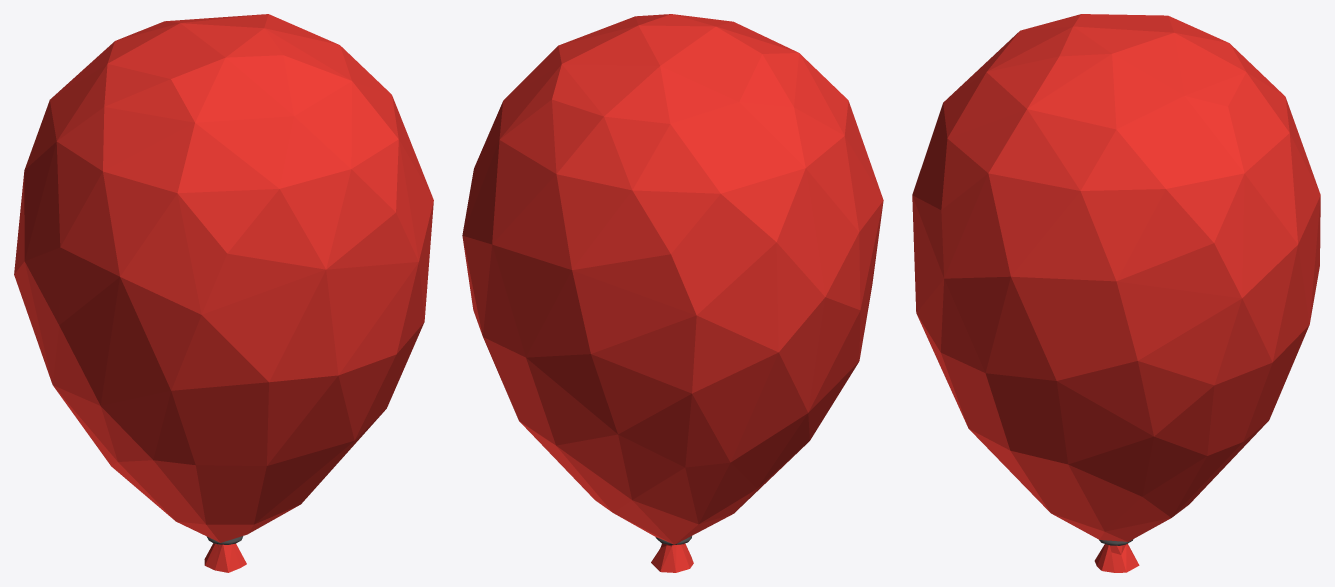
Rendered from balloon.fbx.
The picture shows the model from 3 angles, left to right: view 1: azimuth 30°, elevation 25°; view 2: azimuth 150°, elevation 25°; view 3: azimuth 270°, elevation 25°; orthographic projection.
Visible parts, largest first — view 1: Cube.003, Cylinder.006; view 2: Cube.003, Cylinder.006; view 3: Cube.003, Cylinder.006.
Boxes of the visible parts, left/top/right/bottom form: Cube.003: left=14, top=14, right=433, bottom=542; Cylinder.006: left=204, top=543, right=246, bottom=572; Cube.003: left=462, top=14, right=883, bottom=544; Cylinder.006: left=651, top=543, right=693, bottom=572; Cube.003: left=912, top=14, right=1320, bottom=541; Cylinder.006: left=1094, top=543, right=1139, bottom=572.
Bounding box in the file's own units: 460 × 659 × 460.
